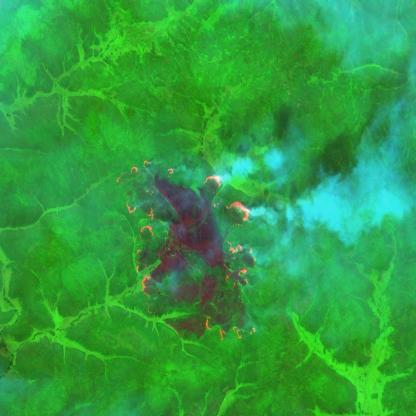fire: (115, 129, 263, 350)
